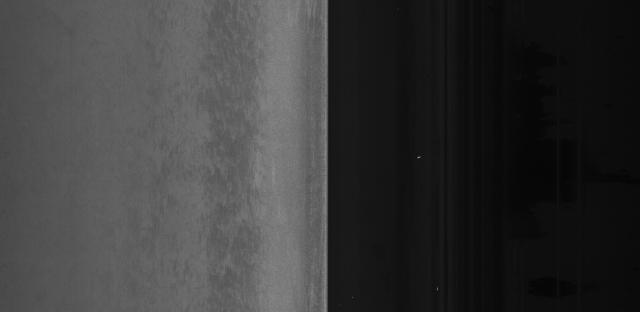silk_spot: (199, 74, 279, 312)
